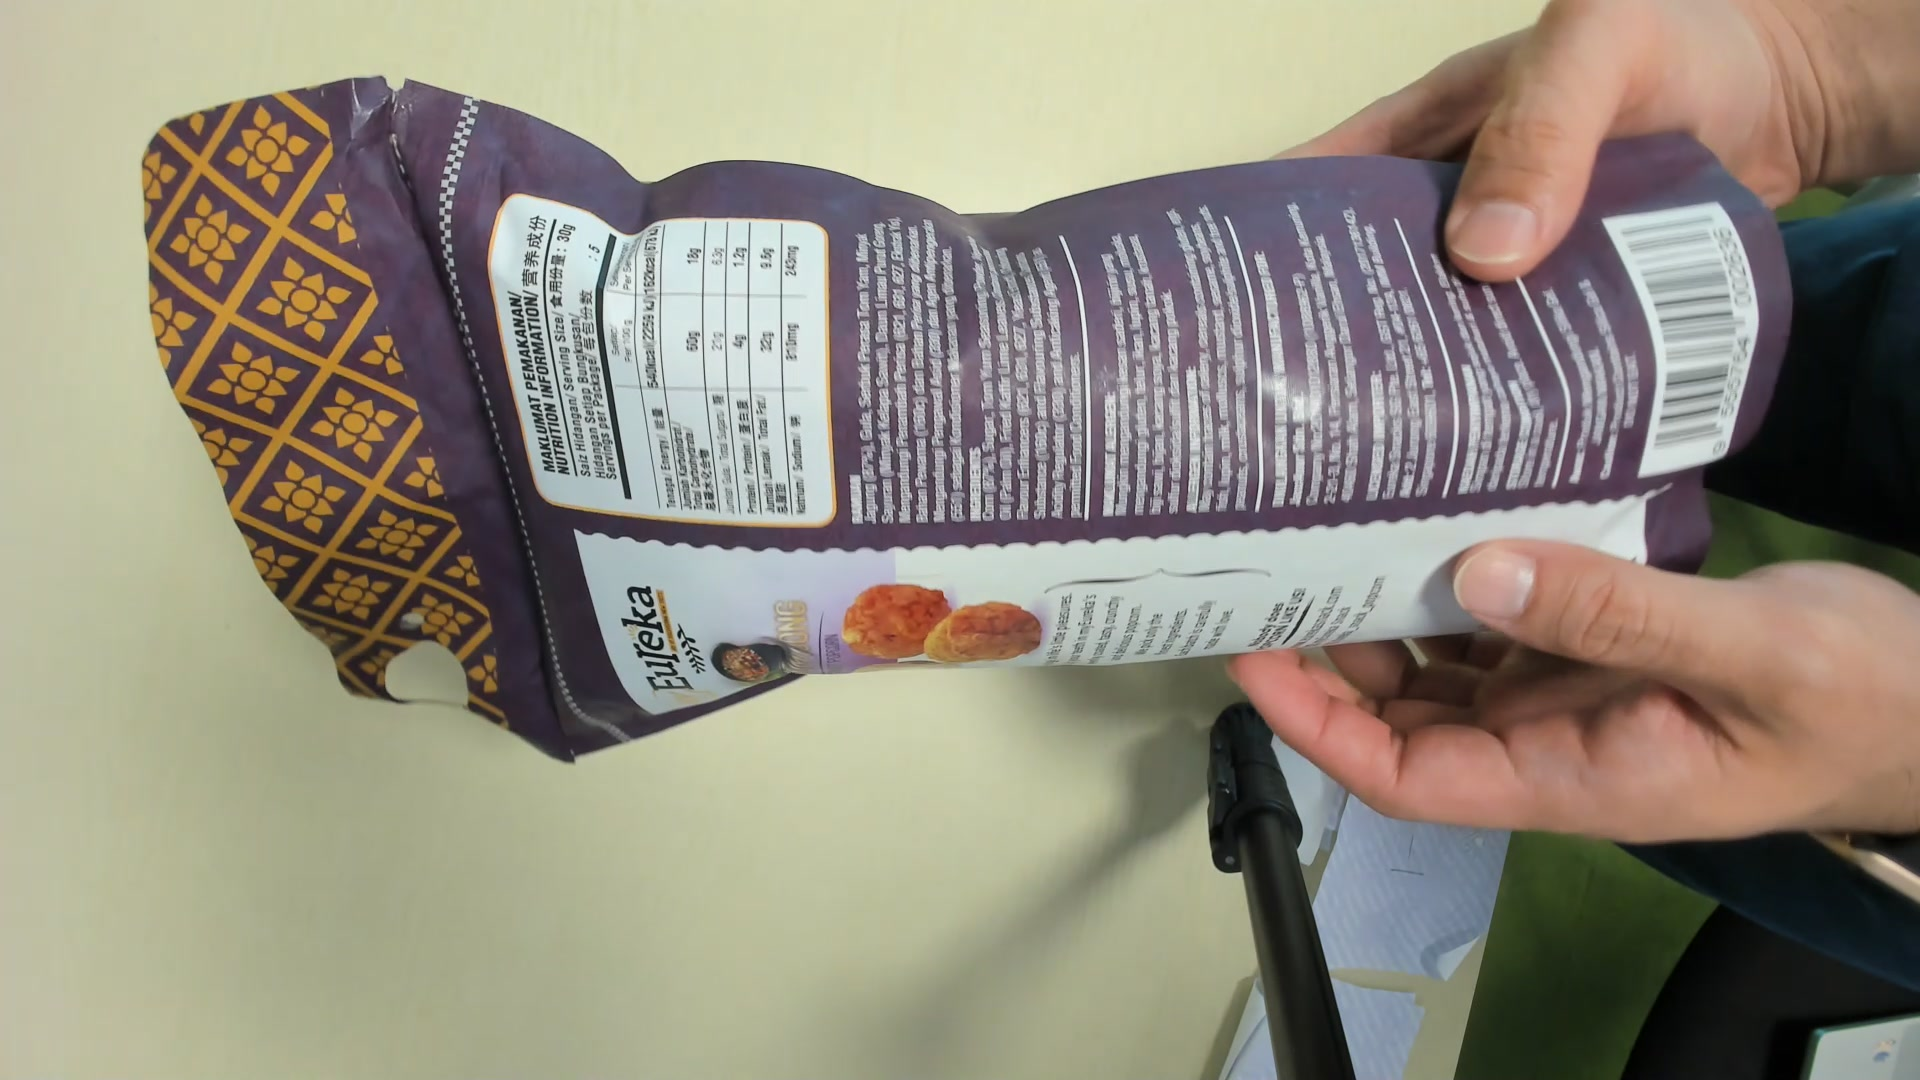PotatoChipsKeropok_100-199g_Halal_NonHealthy: (146, 94, 1760, 781)
